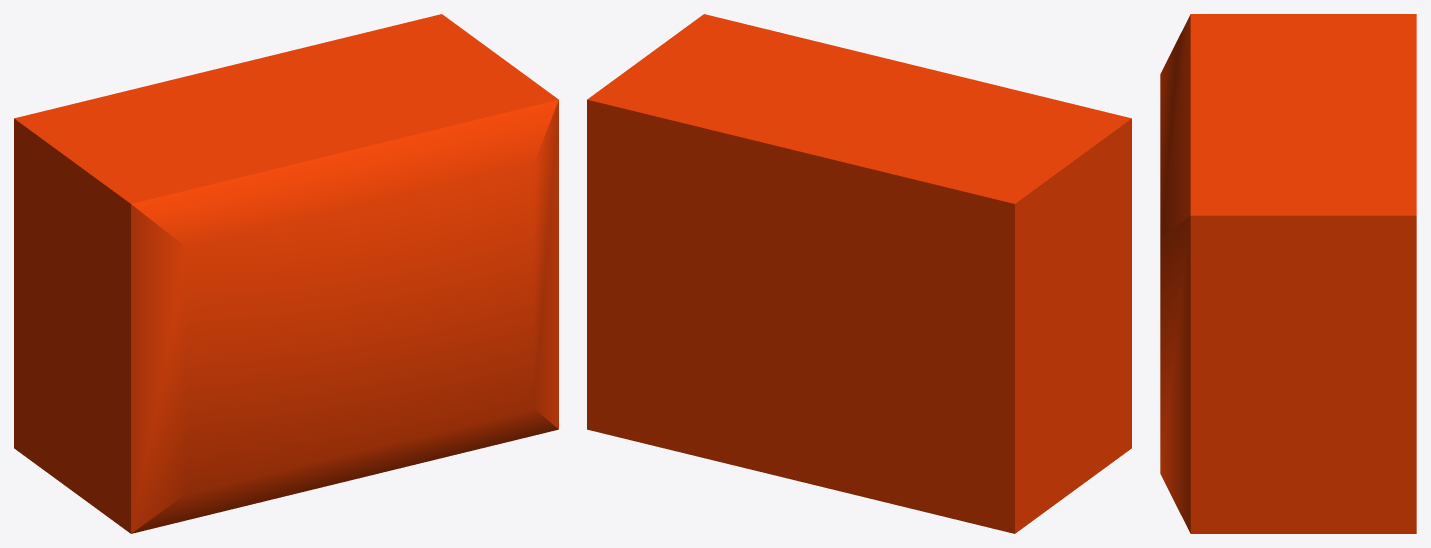
Rendered from MeshRemotebuttons2_1_GeomSubset_4.obj.
3 views of the same model, side by side, from view 1: azimuth 30°, elevation 25°; view 2: azimuth 150°, elevation 25°; view 3: azimuth 270°, elevation 25° (orthographic). The views are drawn at different scales.
Parts seen in each view (by area): view 1: MeshRemotebuttons2_1_GeomSubset_4; view 2: MeshRemotebuttons2_1_GeomSubset_4; view 3: MeshRemotebuttons2_1_GeomSubset_4.
Part boxes in pixels (left/top/right/bottom): MeshRemotebuttons2_1_GeomSubset_4: left=14, top=14, right=558, bottom=533; MeshRemotebuttons2_1_GeomSubset_4: left=587, top=14, right=1131, bottom=533; MeshRemotebuttons2_1_GeomSubset_4: left=1160, top=14, right=1416, bottom=533.
Bounding box in the file's own units: 0.0095 × 0.007 × 0.0051.
